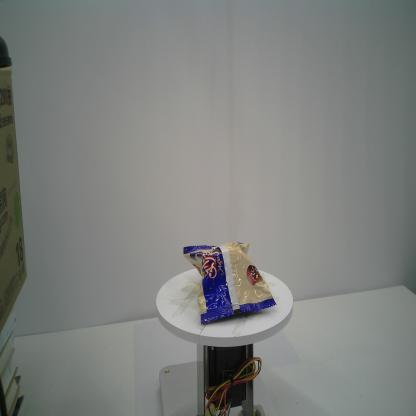Dessert: (181, 238, 276, 326)
